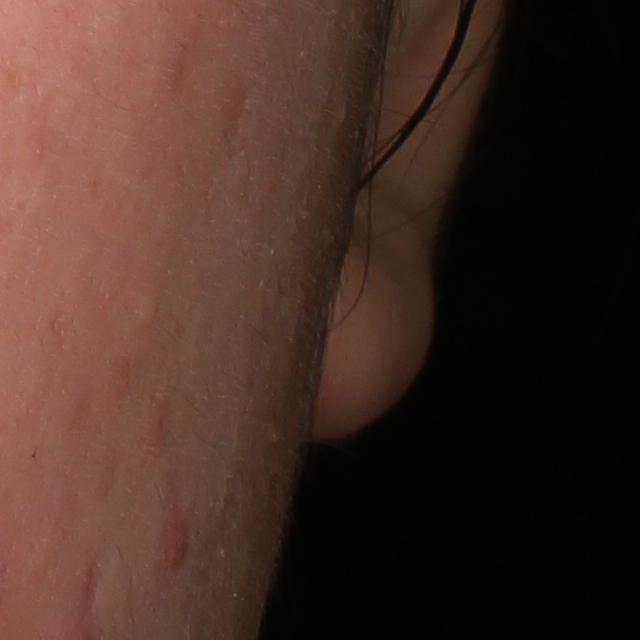atrophic_scar: (78, 556, 103, 609)
papule: (156, 510, 195, 567)
